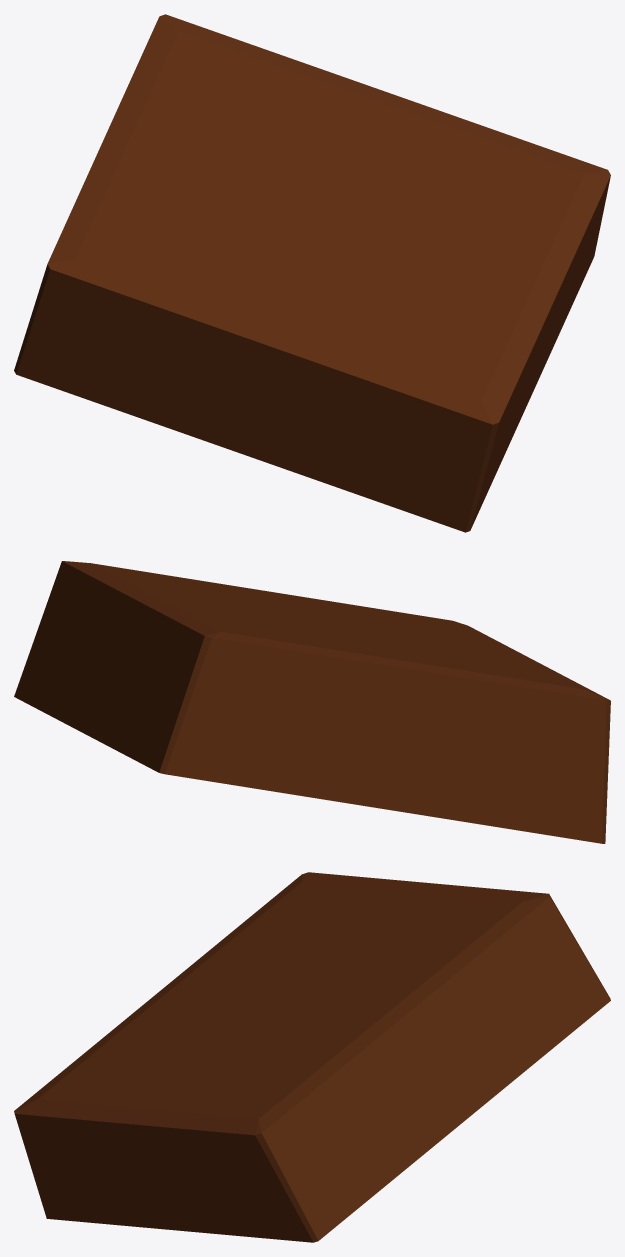
File: iron-plate.glb
3 views of the same model, one above another, from view 1: azimuth 30°, elevation 25°; view 2: azimuth 150°, elevation 25°; view 3: azimuth 270°, elevation 25° (orthographic). The views are drawn at different scales.
Parts seen in each view (by area): view 1: Cube.021; view 2: Cube.021; view 3: Cube.021.
Boxes of the visible parts, x1,y1,x2,y2 form: Cube.021: (14,14,610,532); Cube.021: (14,561,610,843); Cube.021: (14,872,610,1242).
Bounding box in the file's own units: 5 × 2.78 × 4.9.
